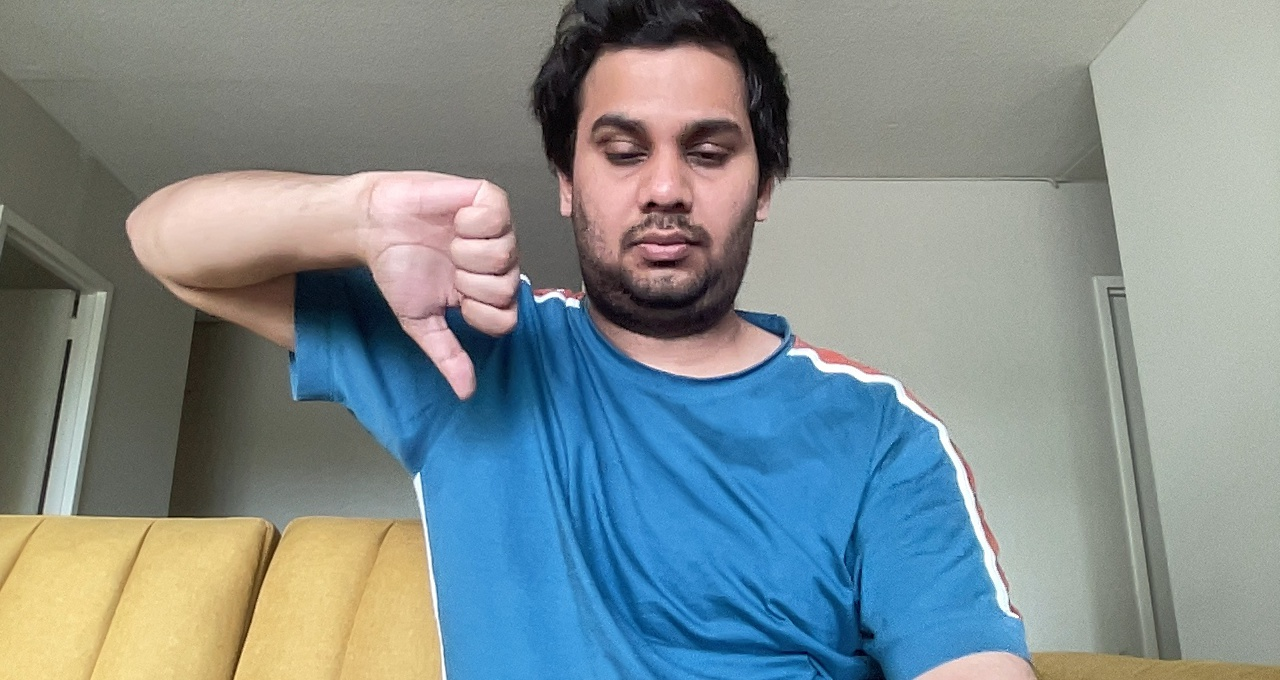thumbsdown: (357, 154, 545, 401)
